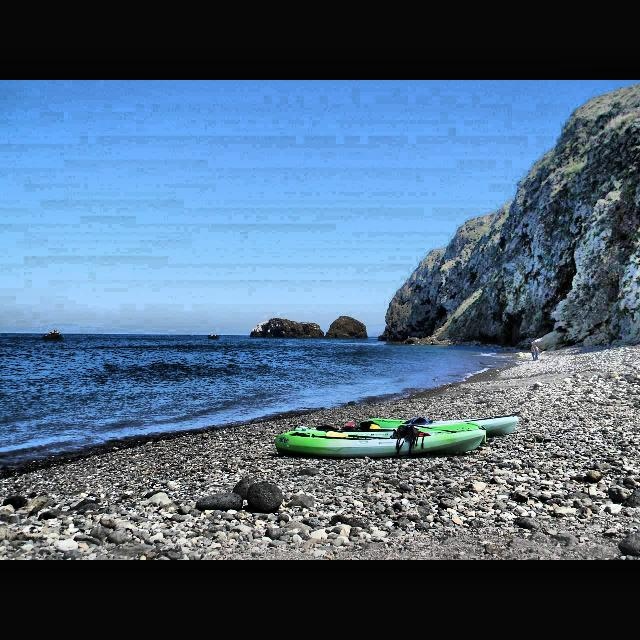kayak: (274, 422, 486, 461), (357, 416, 519, 436)
